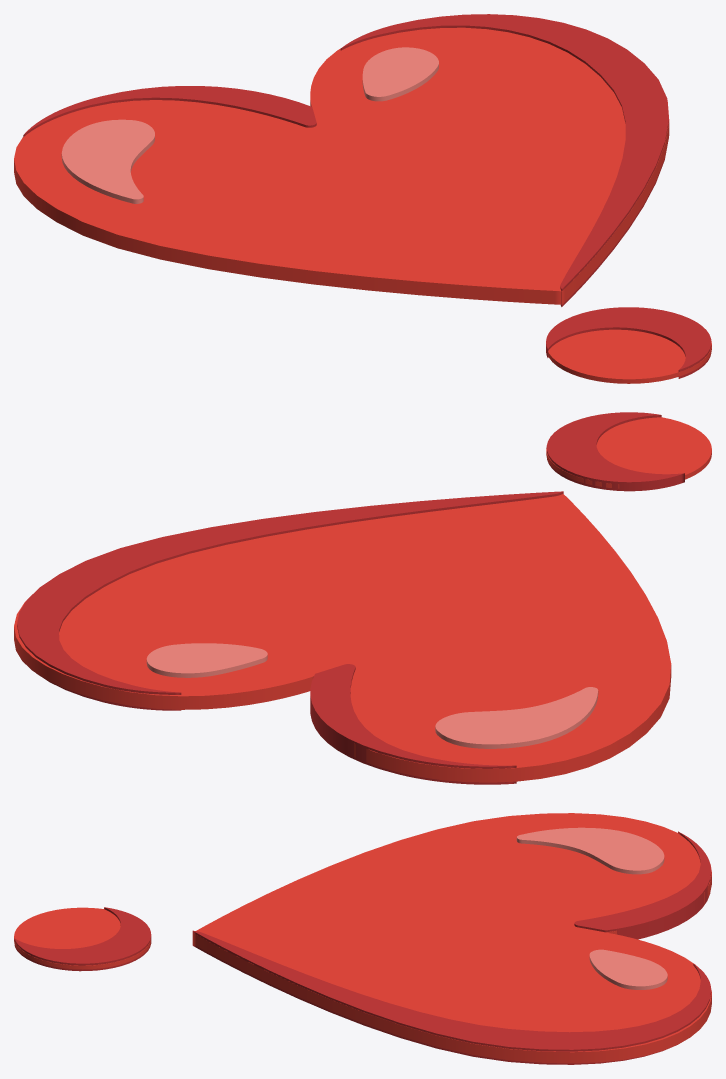
Rendered from emoji_u2763.glb.
3 views of the same model, one above another, from view 1: azimuth 30°, elevation 25°; view 2: azimuth 150°, elevation 25°; view 3: azimuth 270°, elevation 25° (orthographic). The views are drawn at different scales.
Parts seen in each view (by area): view 1: emoji_u2763; view 2: emoji_u2763; view 3: emoji_u2763.
Boxes of the visible parts, bbox=[...] form: emoji_u2763: bbox=[14, 14, 711, 383]; emoji_u2763: bbox=[14, 412, 711, 784]; emoji_u2763: bbox=[14, 813, 711, 1064].
Size of the model in its own units: 0.0273 by 0.001 by 0.0337.
